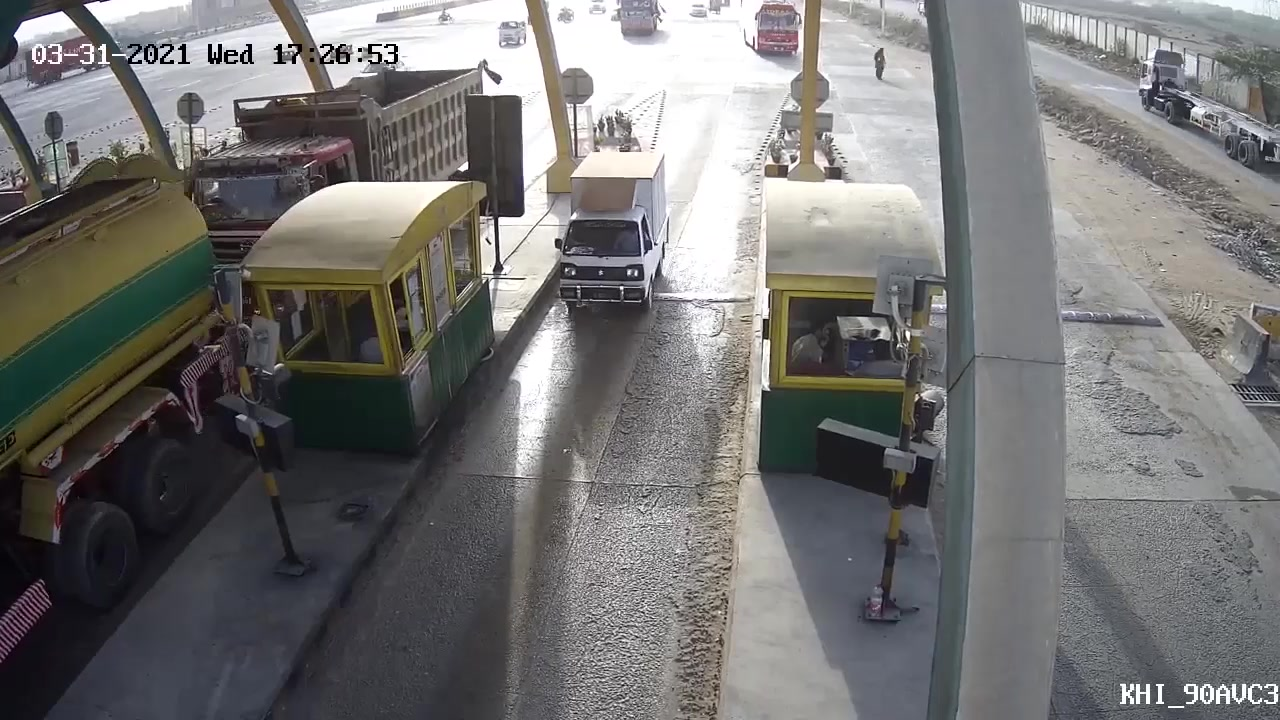F1: (534, 152, 678, 346)
